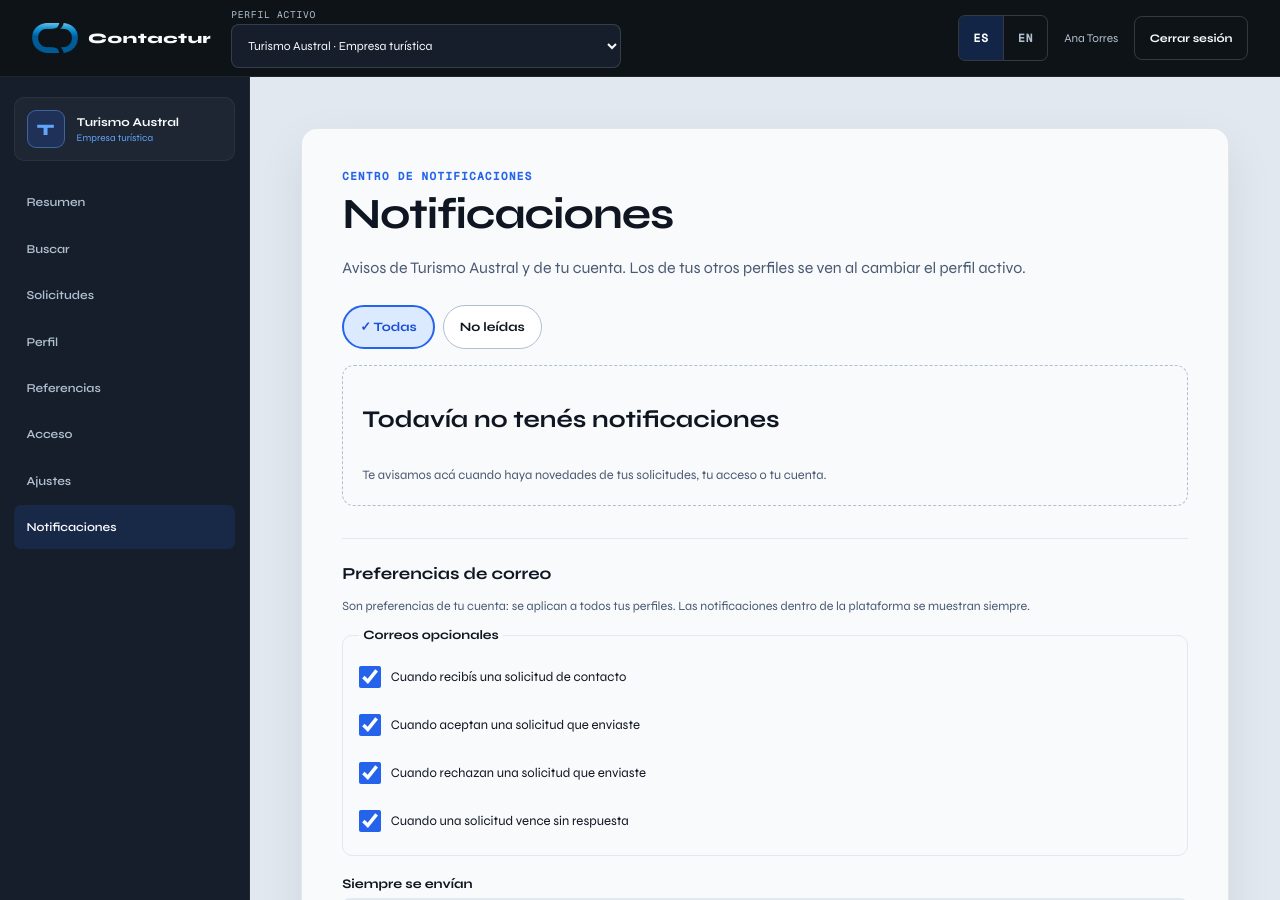
Test case: T19 — centro de notificaciones › muestra estados vacíos distintos para Todas y No leídas
Expected: the heading "Notificaciones" is shown, [342,188,673,240]
Expected: the heading "Todavía no tenés notificaciones" is shown, [362,405,780,434]
Click the button "No leídas" at {"x": 492, "y": 327}, box [443,305,542,349]
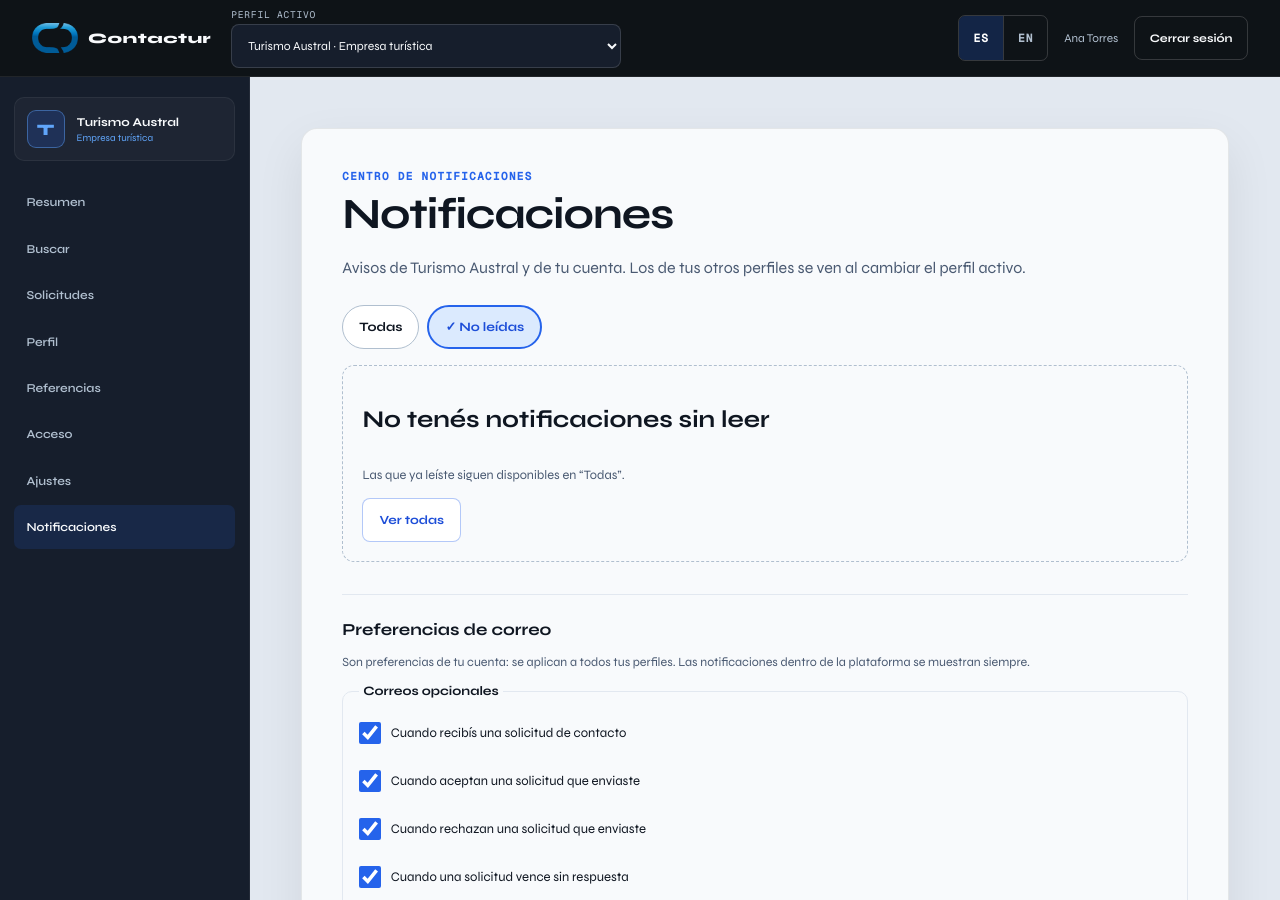
Now the heading "No tenés notificaciones sin leer" is shown, box [362,405,770,434]
Click the button "Ver todas" at {"x": 412, "y": 520}, box [362,498,461,542]
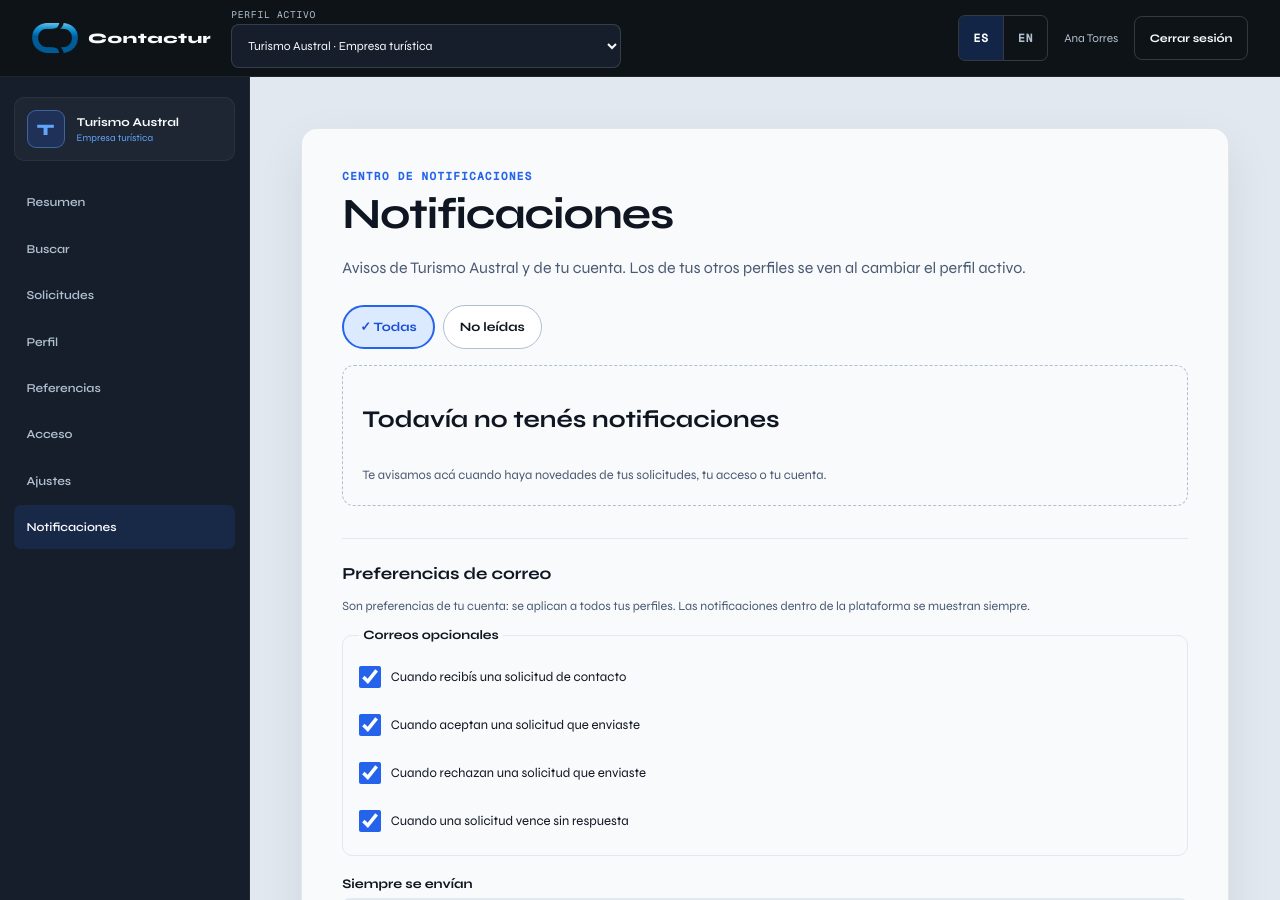
Now the heading "Todavía no tenés notificaciones" is shown, box [362,405,780,434]
